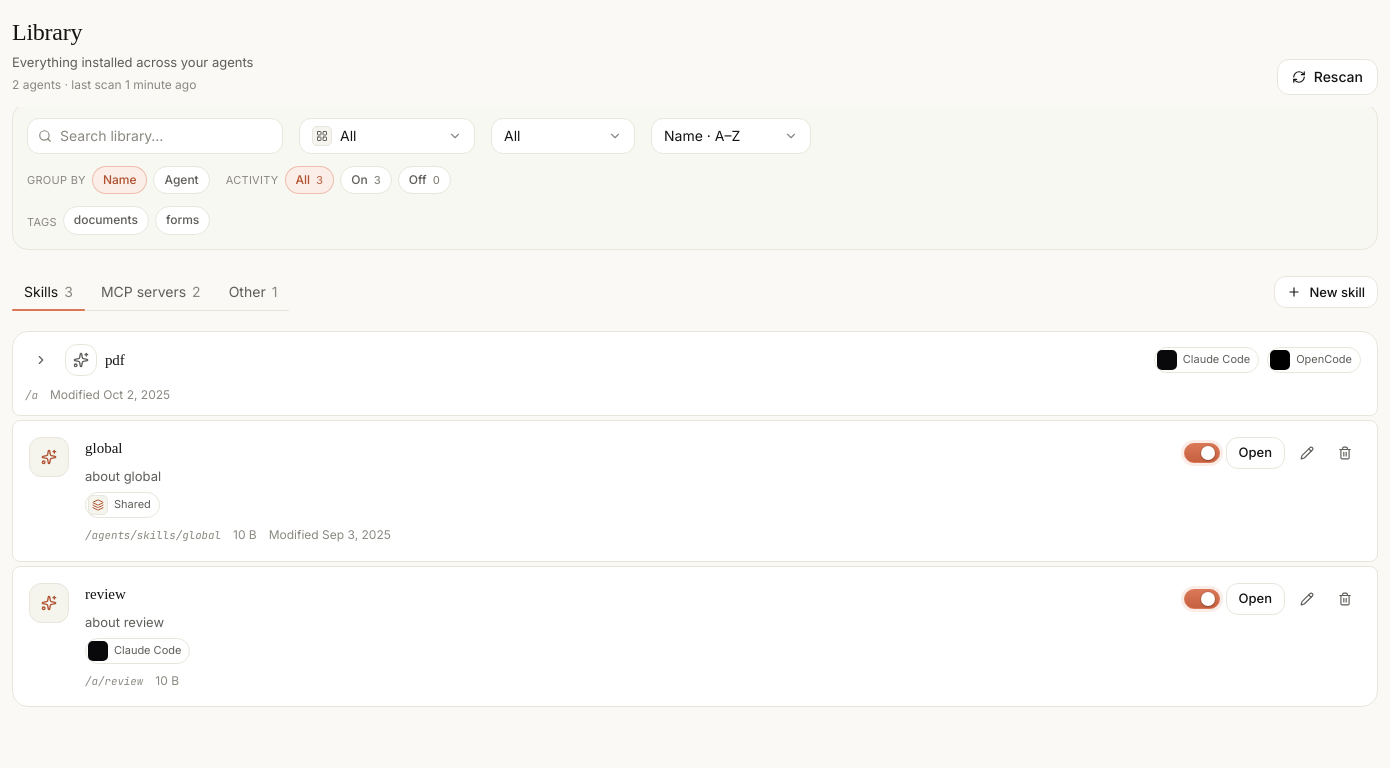
LibraryPage › offers the tags the skills declare and narrows the list by them
Expected: the heading "pdf" is shown, [105,350,124,369]
Click the button "documents".
click(106, 221)  # box [63,206,149,235]
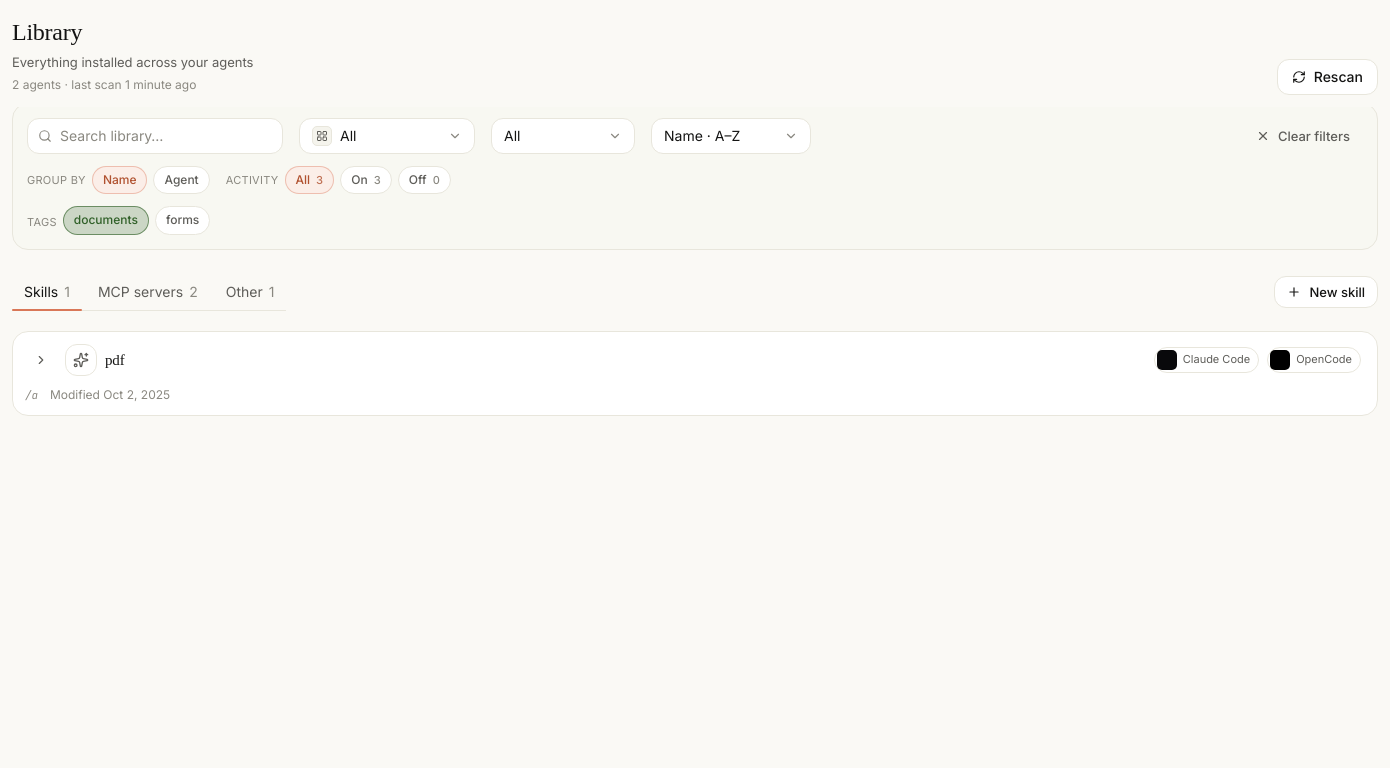
Expected: the heading "pdf" is shown, [105,350,124,369]
Now the button "review" is gone
Now the tab "Skills1" is shown, box [12,274,82,310]
Note: A chip is a switch, so the same click puts the rest of the library back.
Click the button "documents".
click(106, 221)  # box [63,206,149,235]
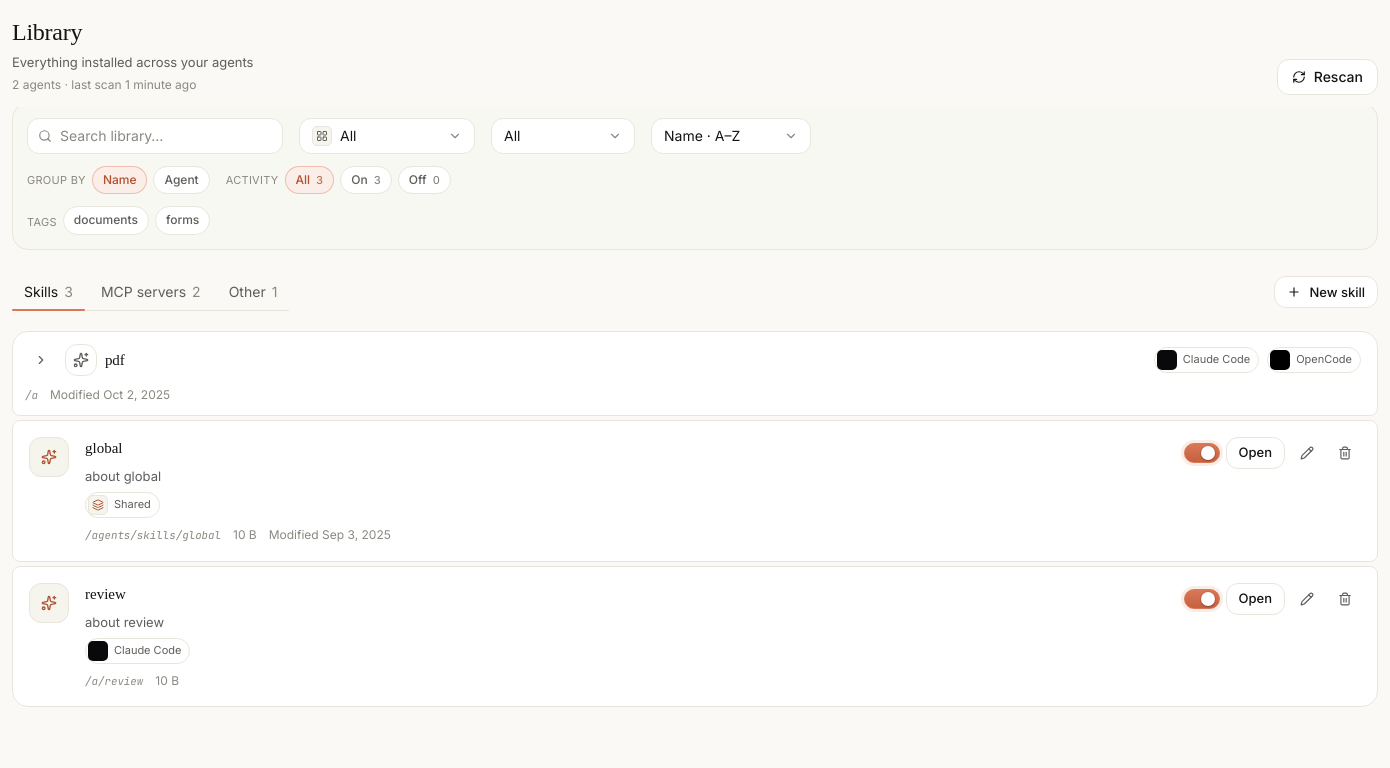
Now the number of buttons "review" is 1, box [29,582,190,688]
